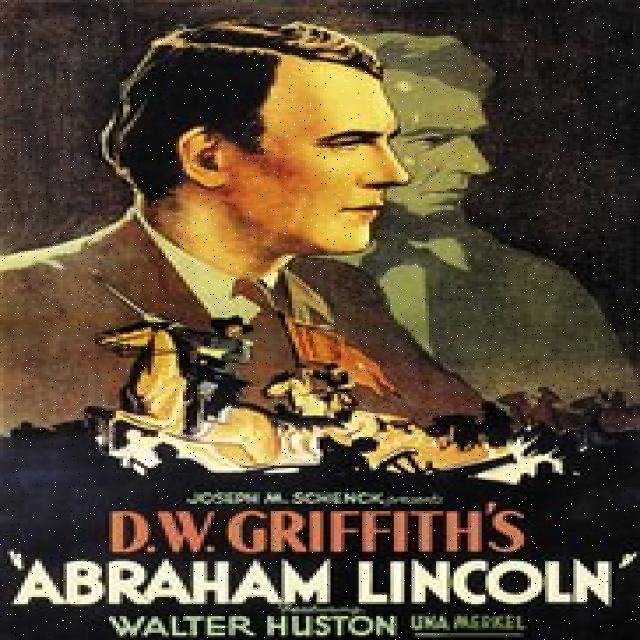movie-judul: (11, 480, 638, 640)
picture: (6, 12, 638, 486)
